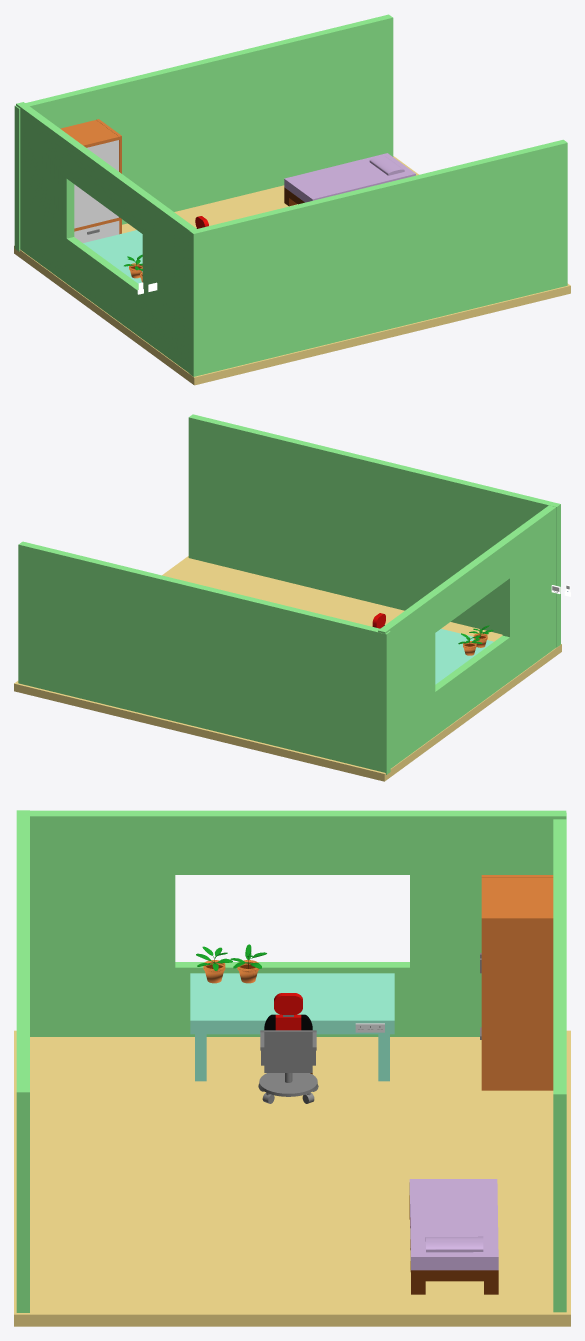
The model's file is bedroom.glb.
3 renders of one model, top to bottom at view 1: azimuth 30°, elevation 25°; view 2: azimuth 150°, elevation 25°; view 3: azimuth 270°, elevation 25°, orthographic. The views are drawn at different scales.
Visible parts, largest first — view 1: bed_8; view 2: bed_8; view 3: bed_8.
Boxes of the visible parts, <box> form: bed_8: <box>14,14,570,385</box>; bed_8: <box>14,414,570,781</box>; bed_8: <box>14,810,570,1326</box>.
Bounding box in the file's own units: 7.49 × 2.64 × 5.72.
